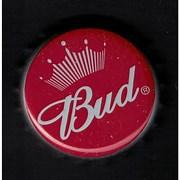metal: (23, 29, 156, 158)
